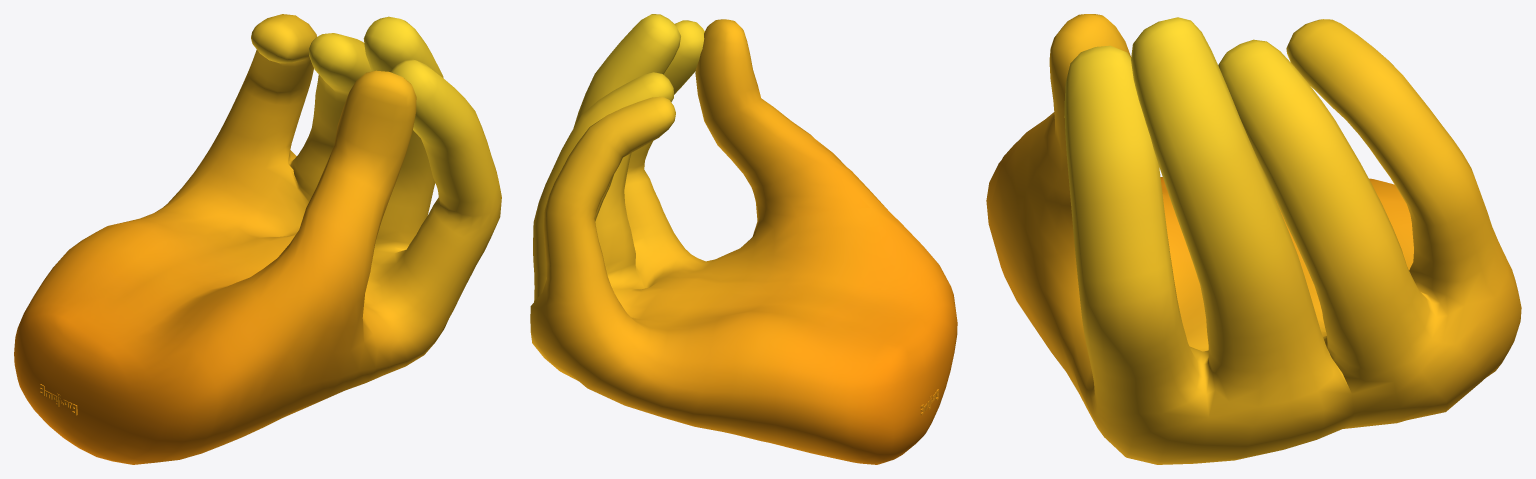
Rendered from pinched_fingers.fbx.
3 renders of one model, left to right at view 1: azimuth 30°, elevation 25°; view 2: azimuth 150°, elevation 25°; view 3: azimuth 270°, elevation 25°, orthographic. The views are drawn at different scales.
Parts seen in each view (by area): view 1: hand.009; view 2: hand.009; view 3: hand.009.
Part boxes in pixels (x1,y1,x2,y2): hand.009: (14,14,501,464); hand.009: (530,14,957,464); hand.009: (986,14,1521,464).
Size of the model in its own units: 170 by 151 by 148.
Materials: 2 (2 with a texture image).
